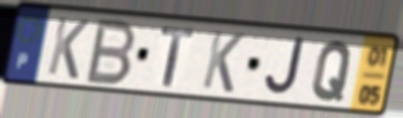B: (82, 17, 139, 87)
J: (262, 36, 307, 99)
K: (44, 15, 92, 83), (199, 28, 247, 96)
Q: (310, 39, 355, 104)
T: (159, 25, 196, 89)
